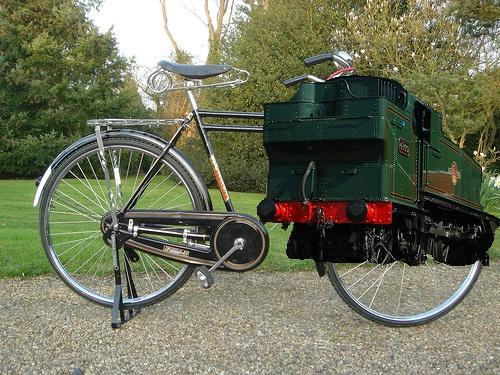tampered: (257, 76, 500, 266)
